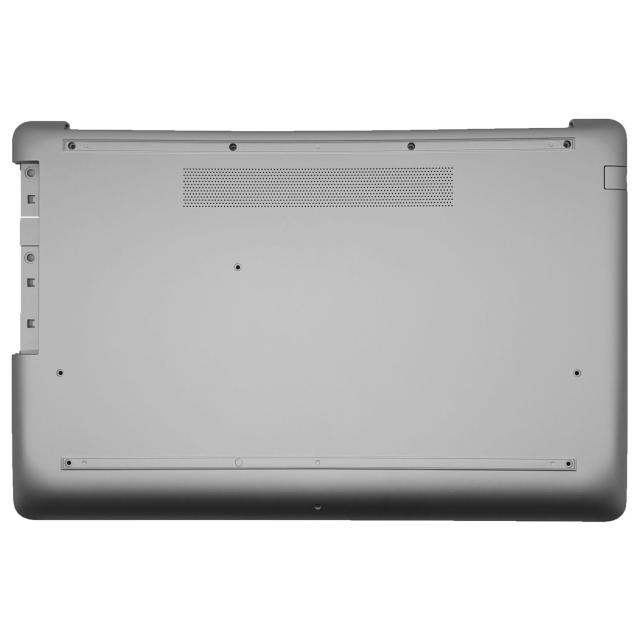missing_screw: (62, 136, 80, 153), (23, 164, 39, 180), (58, 456, 75, 471), (50, 365, 68, 379), (404, 139, 421, 153), (571, 364, 584, 382), (23, 249, 39, 263), (226, 140, 243, 153), (310, 500, 325, 512), (231, 262, 244, 275), (562, 136, 574, 150), (563, 459, 575, 472)
